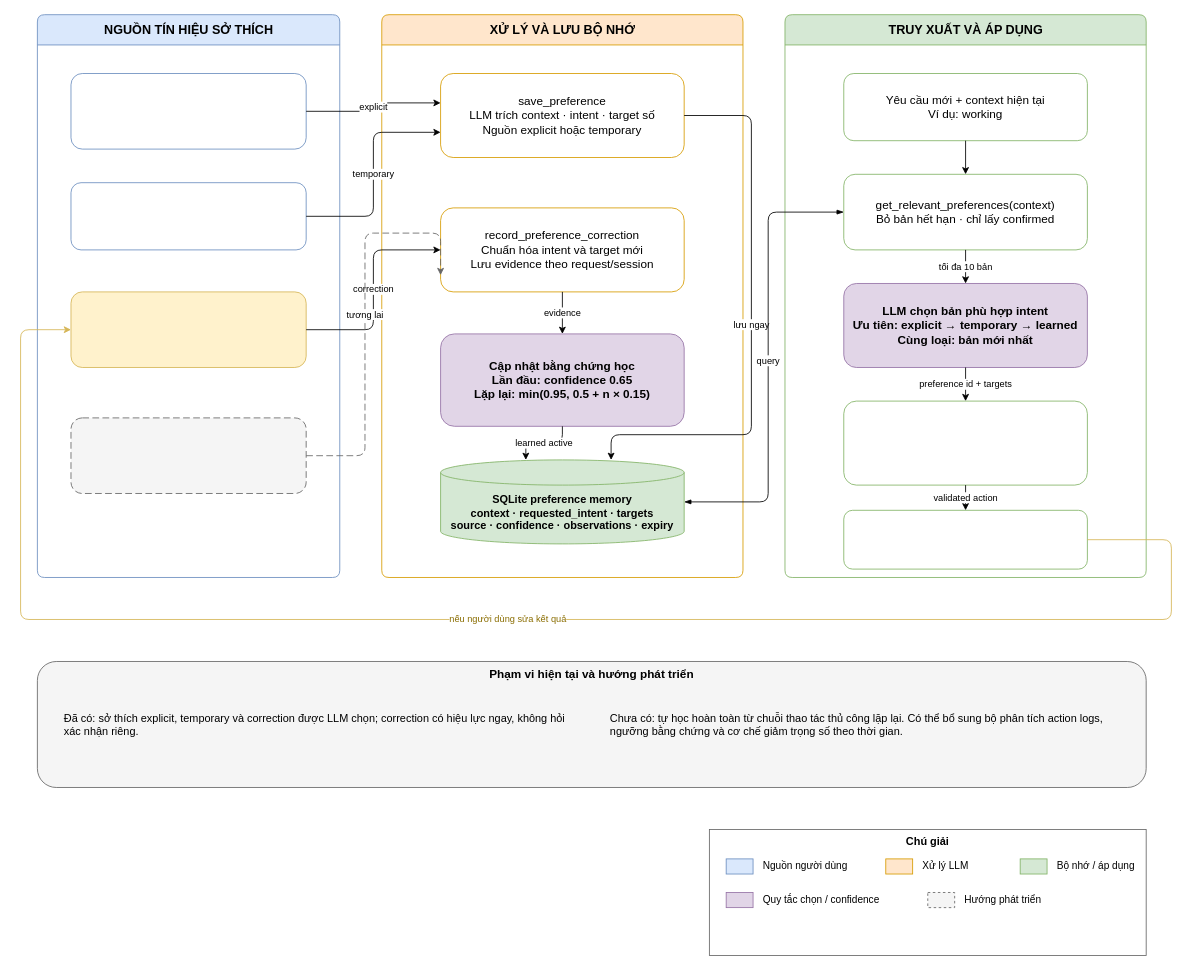
Image size: 1193x970. Some labels were removed from this diagram. The shapes that lost their labels are listed below. From the top down, each one's centre as x and y in pixels, then its label:
the point at 188,111: Sở thích rõ ràng “Khi làm việc, tôi thích đèn vàng 50%.”
the point at 188,216: Sở thích tạm thời Có thời điểm hết hạn expires_at
the point at 188,329: Người dùng sửa kết quả trước “Không, khi làm việc hãy để 2700K.”
the point at 188,455: Hành vi lặp lại từ device logs Mở rộng tương lai: gom cụm và phát hiện mẫu
the point at 965,442: set_room_scene Gửi applied_preference_id Guardrail vẫn kiểm tra như mọi action
the point at 965,539: Kết quả được áp dụng Đánh dấu last_used_at Người dùng tiếp tục đánh giá
